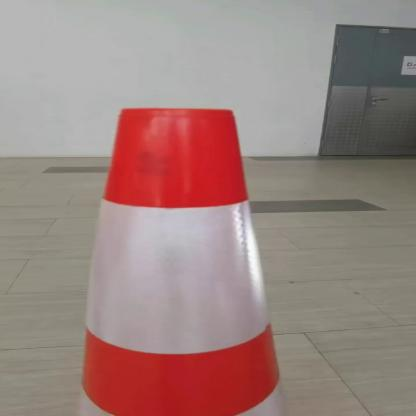cone: (59, 103, 320, 415)
